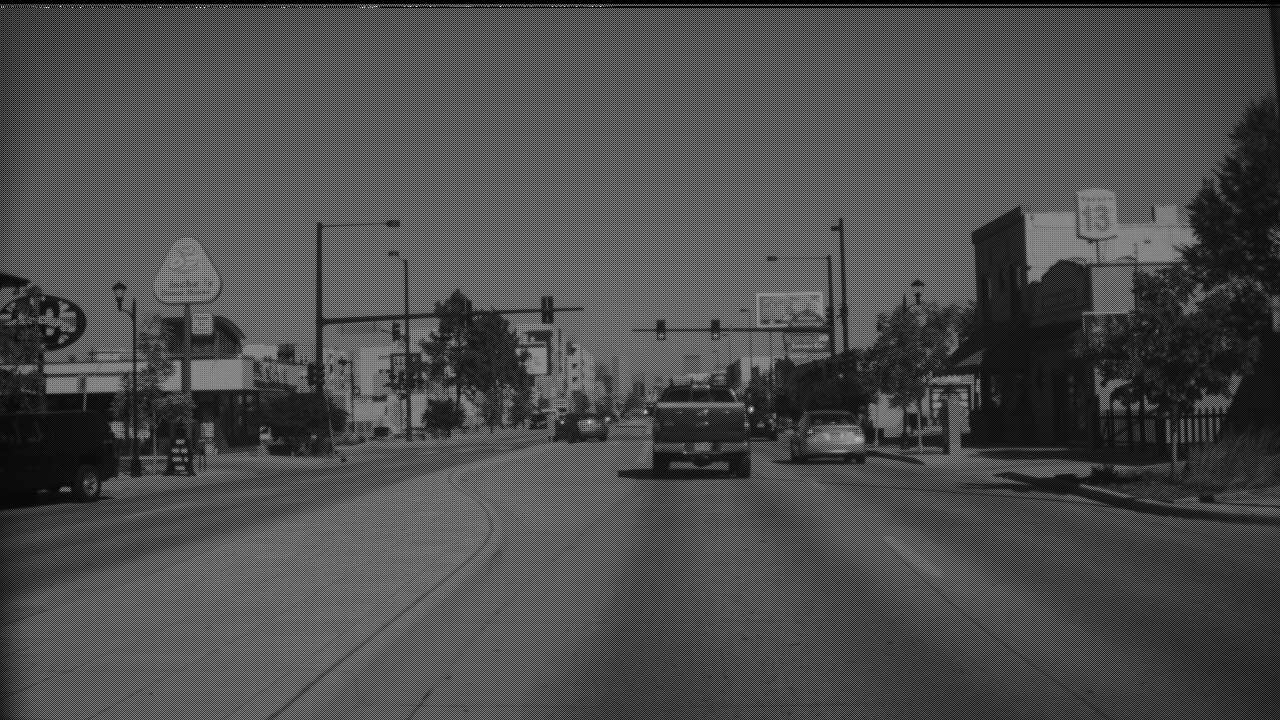pole: (401, 259, 414, 441), (130, 299, 141, 477), (314, 222, 324, 396), (839, 218, 850, 351), (826, 254, 836, 357), (183, 306, 193, 395)
